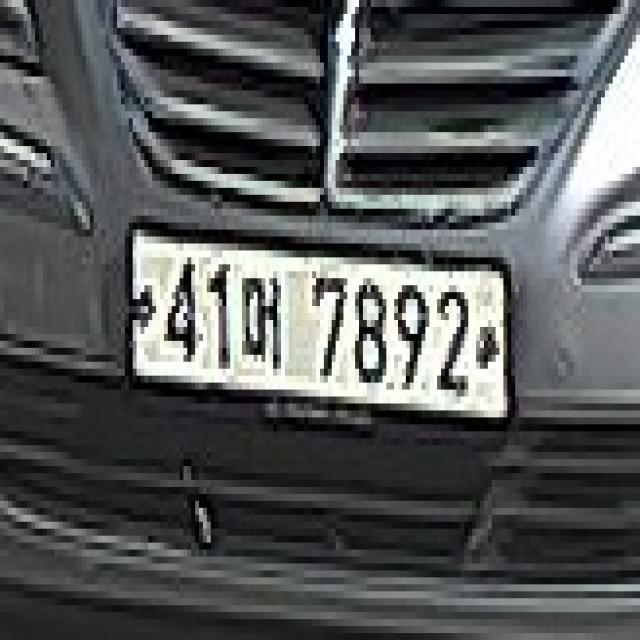1: (207, 257, 234, 376)
2: (433, 278, 468, 397)
4: (164, 257, 203, 369)
7: (308, 264, 348, 383)
8: (352, 278, 386, 390)
9: (390, 278, 430, 397)
license_plate: (125, 209, 515, 438)
meo: (238, 271, 285, 369)
